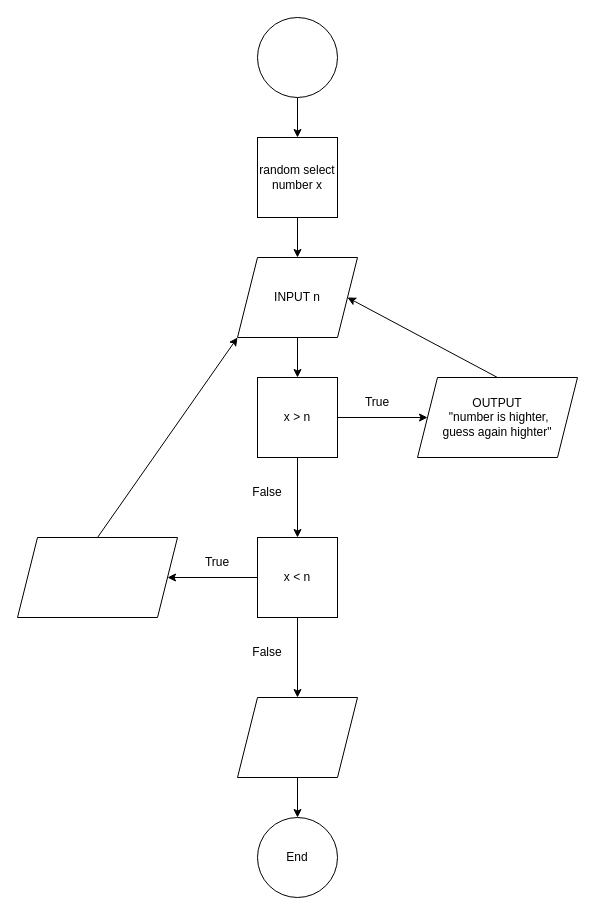
The diagram is 595 pixels wide and 915 high, and some of its shapes have lost their labels. Here are the shapes that lost their labels. From the top down, the box of each, then its label:
(256, 16, 338, 98): Start
(16, 536, 178, 618): OUTPUT "number is lower, guess again lower"
(236, 696, 358, 778): OUPUT "you're correct"
